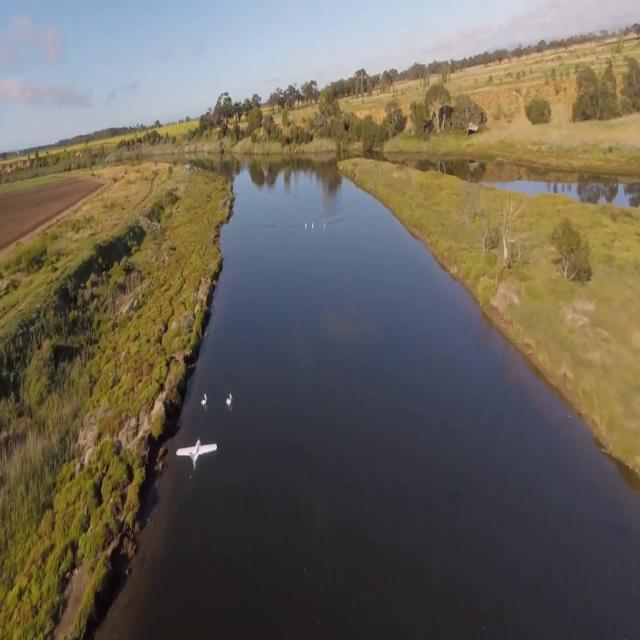iha: (173, 439, 219, 467)
